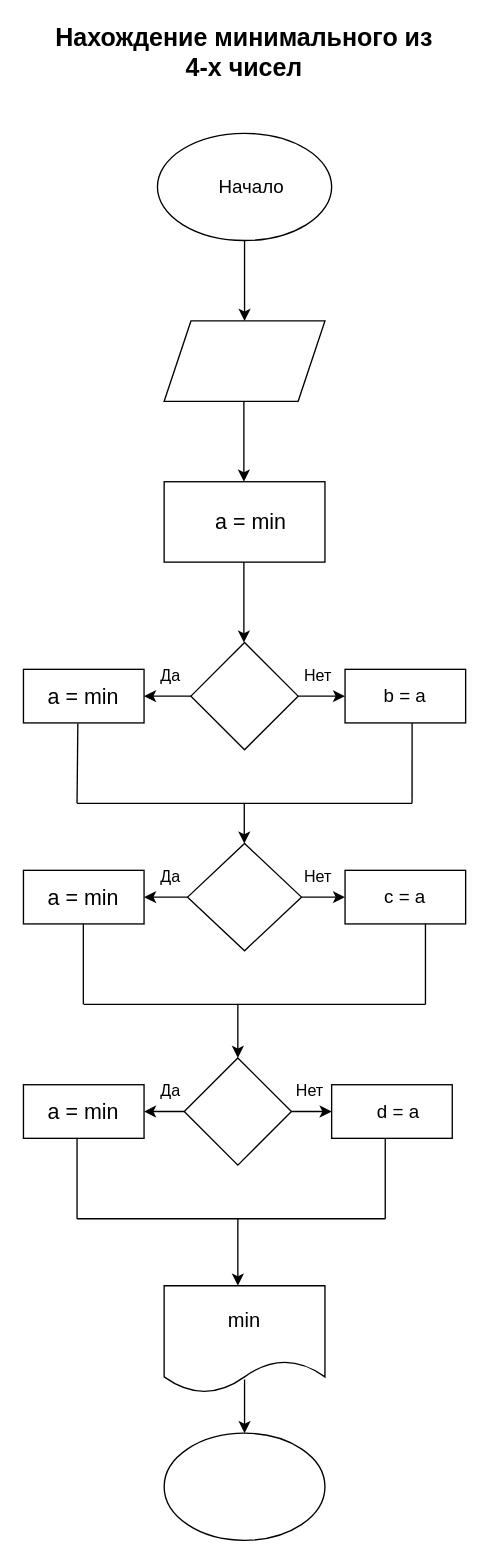
This 489x1564 diagram has some shape labels left out. The shapes that lost their labels are listed below. From the top down, each one's centre as x and y in pixels, then its label:
(x=244, y=360): a, b, c, d
(x=244, y=695): b > min
(x=244, y=896): c > min
(x=237, y=1111): d > min
(x=244, y=1486): Конец
